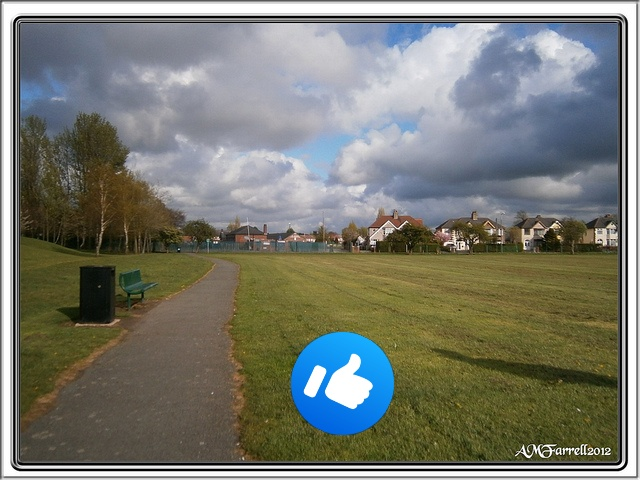like: (291, 332, 394, 435)
